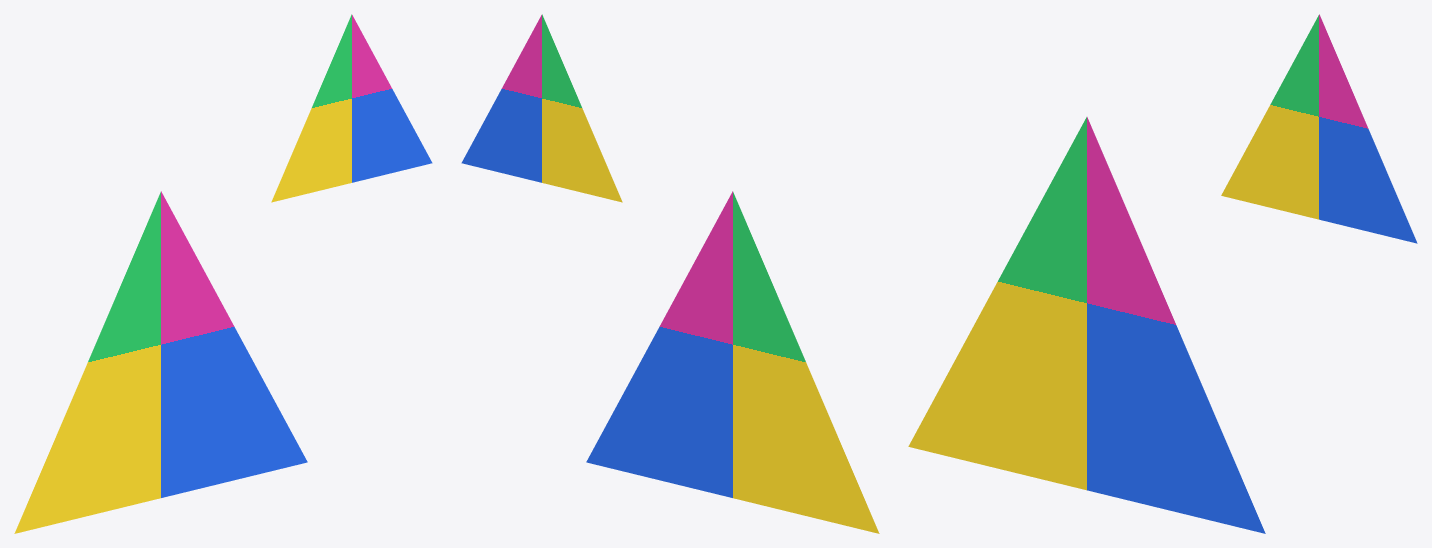
3 views of the same model, side by side, from view 1: azimuth 30°, elevation 25°; view 2: azimuth 150°, elevation 25°; view 3: azimuth 330°, elevation 25° (orthographic). The views are drawn at different scales.
Parts seen in each view (by area): view 1: ParentTriangle, ChildTriangle; view 2: ParentTriangle, ChildTriangle; view 3: ParentTriangle, ChildTriangle.
Part boxes in pixels (bbox=[...]): ParentTriangle: bbox=[14, 191, 307, 533]; ChildTriangle: bbox=[271, 14, 432, 202]; ParentTriangle: bbox=[586, 191, 879, 533]; ChildTriangle: bbox=[461, 14, 622, 202]; ParentTriangle: bbox=[908, 117, 1265, 533]; ChildTriangle: bbox=[1221, 14, 1417, 243].
Size of the model in its own units: 1.43 by 1.43 by 0.
Materials: 1 (1 with a texture image).
